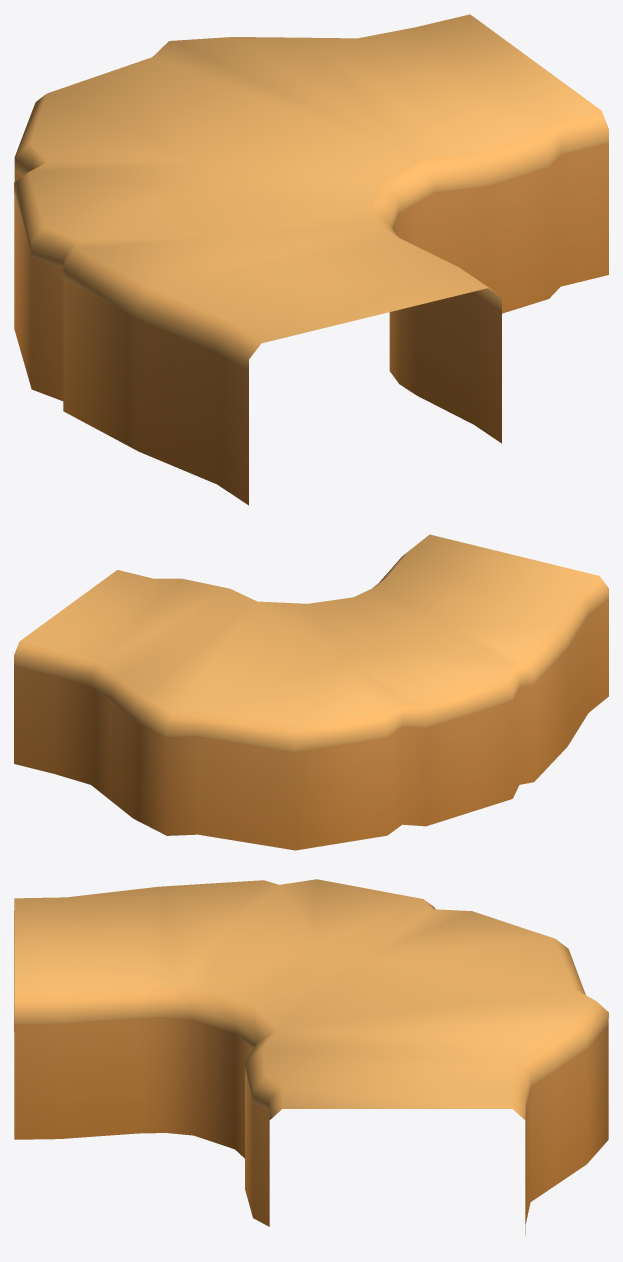
Rendered from L Path 02.FBX.
The picture shows the model from 3 angles, top to bottom: view 1: azimuth 30°, elevation 25°; view 2: azimuth 150°, elevation 25°; view 3: azimuth 270°, elevation 25°; orthographic projection. The views are drawn at different scales.
Parts seen in each view (by area): view 1: L Path 02; view 2: L Path 02; view 3: L Path 02.
Part boxes in pixels (x1=…): L Path 02: x1=14, y1=14, x2=608, y2=505; L Path 02: x1=14, y1=534, x2=608, y2=850; L Path 02: x1=14, y1=879, x2=608, y2=1234.
Size of the model in its own units: 1087 by 300 by 1165.
1 material, 1 textured.
